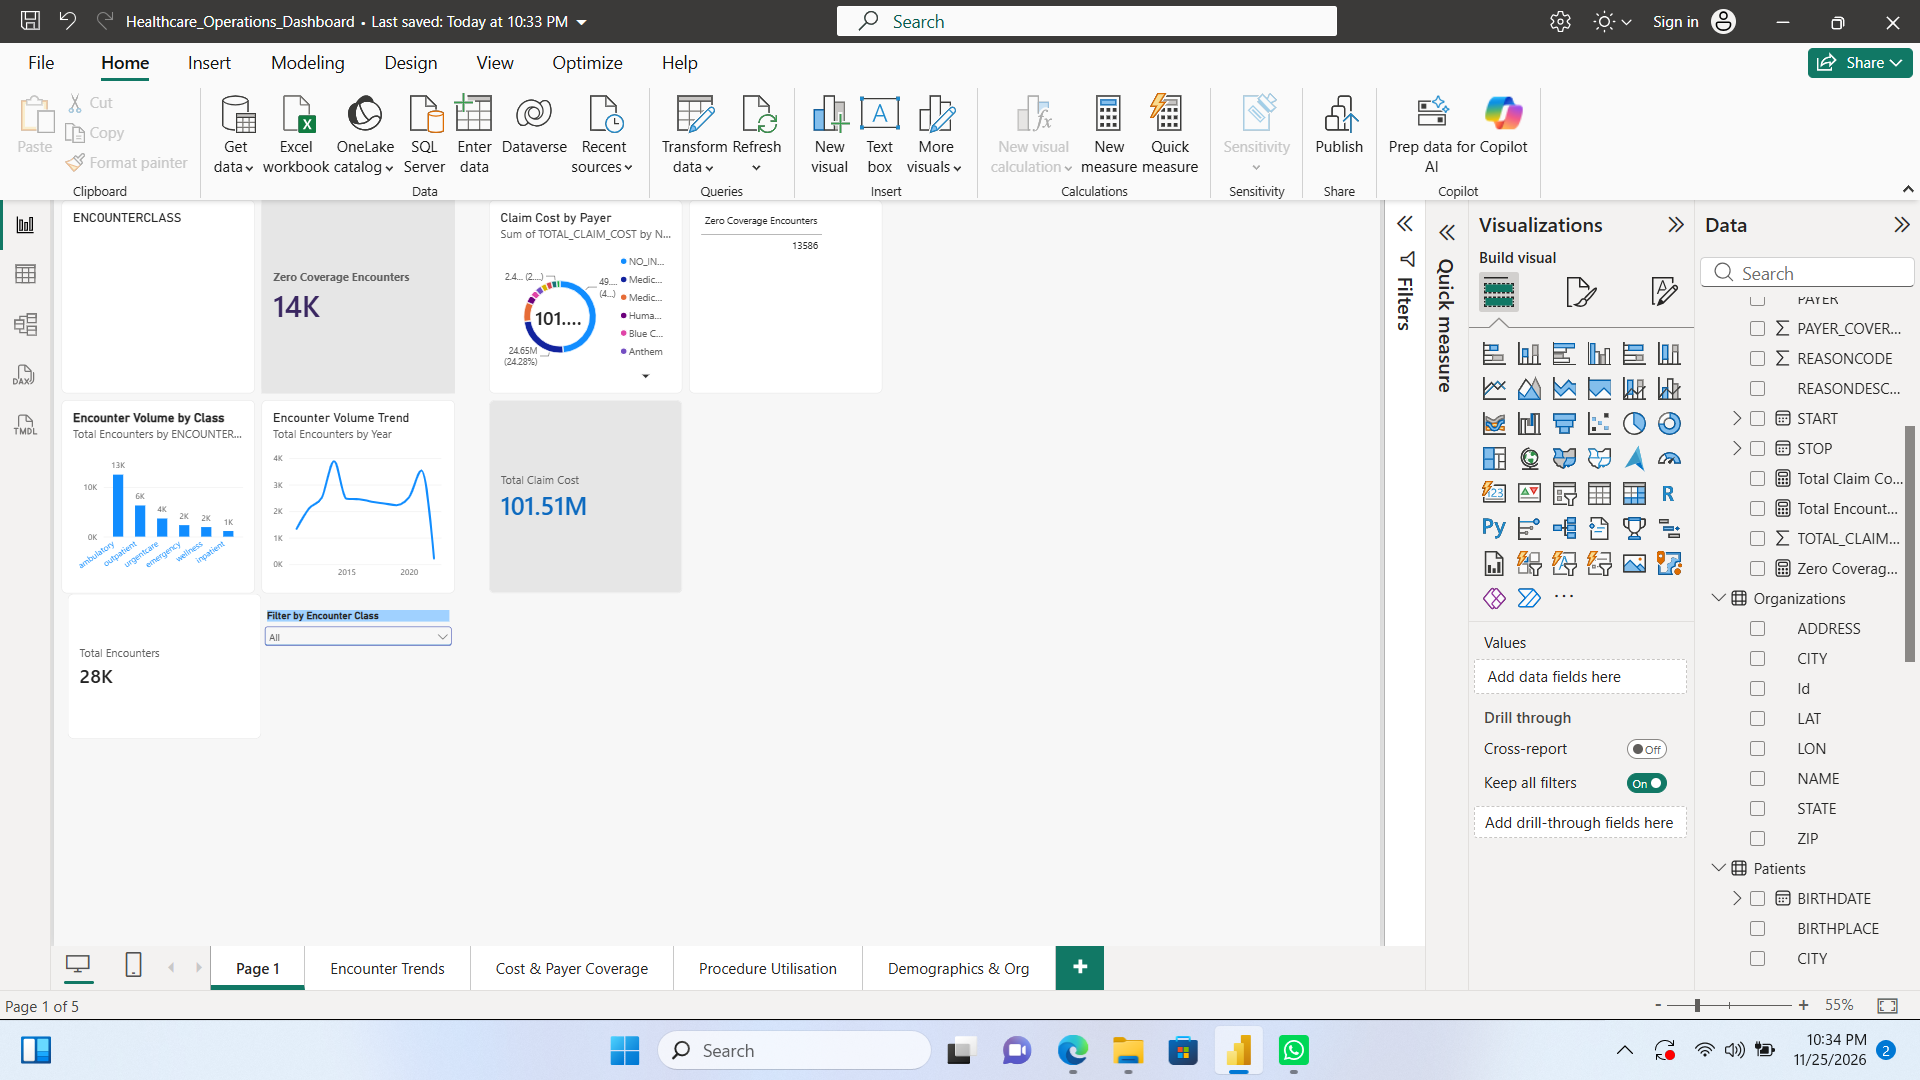

This screenshot's page, from the dashboard's own definition file:
{"tool":"powerbi","page":{"name":"Page 1","canvas":[1920,1080],"ordinal":0},"visuals":[{"type":"columnChart","fields":{"Category":["Encounters.ENCOUNTERCLASS"]},"box":[10,0,280,280],"z":0},{"type":"columnChart","title":"Encounter Volume by Class","fields":{"Category":["Encounters.ENCOUNTERCLASS"],"Y":["Encounters.Total Encounters"]},"box":[10,290,280,280],"z":1000},{"type":"cardVisual","fields":{"Data":["Encounters.Total Claim Cost"]},"box":[629.8,290.2,280,280],"z":2000},{"type":"cardVisual","fields":{"Data":["Encounters.Total Encounters"]},"box":[20.6,570.2,280,210],"z":3000},{"type":"cardVisual","fields":{"Data":["Encounters.Zero Coverage Encounters"]},"box":[300,0,280,280],"z":4000},{"type":"lineChart","title":"Encounter Volume Trend","fields":{"Category":["Encounters.START.Variation.Date Hierarchy.Year","Encounters.START.Variation.Date Hierarchy.Quarter","Encounters.START.Variation.Date Hierarchy.Month","Encounters.START.Variation.Date Hierarchy.Day"],"Y":["Encounters.Total Encounters"]},"box":[300,290,280,280],"z":5000},{"type":"donutChart","title":"Claim Cost by Payer","fields":{"Category":["Payers.NAME"],"Y":["Sum(Encounters.TOTAL_CLAIM_COST)"]},"box":[629.8,0,280,280],"z":6000},{"type":"slicer","fields":{"Values":["Encounters.ENCOUNTERCLASS"]},"box":[300.5,592.8,280,210],"z":7000},{"type":"tableEx","fields":{"Values":["Encounters.Zero Coverage Encounters"]},"box":[920,0,280,280],"z":7001}]}

Visuals, with their boxes on the page's 1920x1080 design canvas (x1, y1, x2, y2). These are canvas units, not pixel positions in the 1920x1080 screenshot, which may show the page scaled, cropped or inside an application window:
columnChart - Encounters.ENCOUNTERCLASS: crop(10, 0, 290, 280)
"Encounter Volume by Class" columnChart: crop(10, 290, 290, 570)
cardVisual - Encounters.Total Claim Cost: crop(630, 290, 910, 570)
cardVisual - Encounters.Total Encounters: crop(21, 570, 301, 780)
cardVisual - Encounters.Zero Coverage Encounters: crop(300, 0, 580, 280)
"Encounter Volume Trend" lineChart: crop(300, 290, 580, 570)
"Claim Cost by Payer" donutChart: crop(630, 0, 910, 280)
slicer - Encounters.ENCOUNTERCLASS: crop(300, 593, 580, 803)
tableEx - Encounters.Zero Coverage Encounters: crop(920, 0, 1200, 280)
